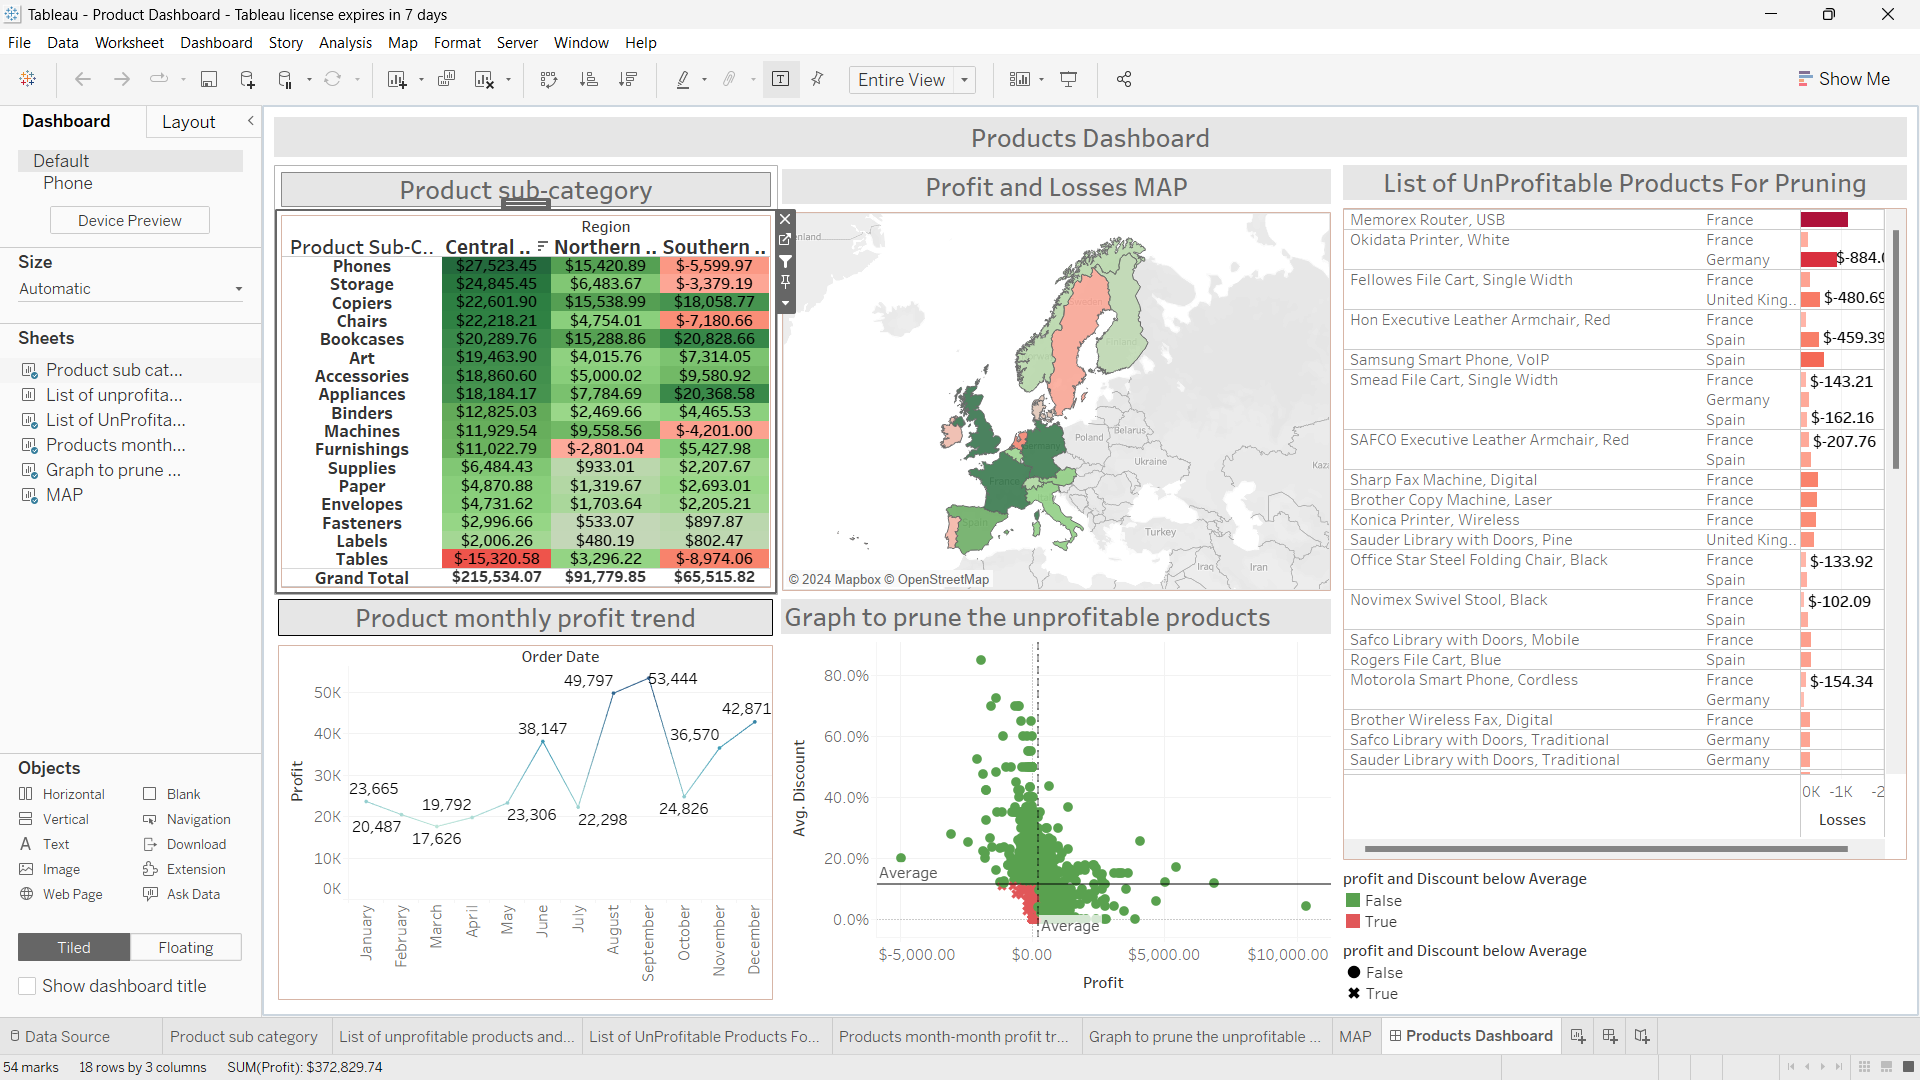

The page's visual inventory and layout, read from the dashboard file:
{"tool":"tableau","page":{"name":"Products Dashboard","canvas":[1000,1000],"units":"permille","ordinal":0},"visuals":[{"type":"text","box":[4.8,8.8,990.3,52.7]},{"type":"text","box":[650,61.5,345.2,47.2]},{"type":"text","box":[311.1,65.8,336.4,47.2]},{"type":"text","box":[9.1,69.1,300.3,47.2]},{"type":"worksheet","title":"List of UnProfitable Products For Pruning","mark":"Bar","rows":["Product Name","Country/Region"],"cols":["Profit"],"box":[650,108.7,345.2,724.5]},{"type":"worksheet","title":"MAP","mark":"Automatic","box":[311.1,113,336.4,425.2]},{"type":"worksheet","title":"Product sub category","mark":"Automatic","rows":["Sub-Category"],"cols":["Region"],"box":[9.1,116.3,300.3,418.5]},{"type":"text","box":[7.2,538.2,303.8,49.8]},{"type":"text","box":[311,538.2,336.5,47.2]},{"type":"worksheet","title":"Graph to prune the unprofitable products","mark":"Automatic","rows":["Discount"],"cols":["Profit"],"box":[311,585.5,336.5,401.4]},{"type":"worksheet","title":"Products month-month profit trend","mark":"Automatic","rows":["Profit"],"cols":["Order Date"],"box":[7.2,588.1,303.8,398.8]},{"type":"legend","title":"Graph to prune the unprofitable products","param":"[federated.1nu9wbl0ly4tzy1cx9fzt0t80pvc].[usr:Calculation_1455788629362044928:nk","box":[650,833.2,345.2,79]},{"type":"legend","title":"Graph to prune the unprofitable products","param":"[federated.1nu9wbl0ly4tzy1cx9fzt0t80pvc].[usr:Calculation_1455788629362044928:nk","box":[650,912.2,345.2,79]}]}

Visuals, with their boxes on the dashboard's canvas, which has no fixed pixel size, in thousandths of its width and height (x1, y1, x2, y2). These are canvas units, not pixel positions in the 1920x1080 screenshot, which may show the page scaled, cropped or inside an application window:
text: {"x1": 5, "y1": 9, "x2": 995, "y2": 62}
text: {"x1": 650, "y1": 62, "x2": 995, "y2": 109}
text: {"x1": 311, "y1": 66, "x2": 648, "y2": 113}
text: {"x1": 9, "y1": 69, "x2": 309, "y2": 116}
"List of UnProfitable Products For Pruning" worksheet (Bar marks): {"x1": 650, "y1": 109, "x2": 995, "y2": 833}
"MAP" worksheet: {"x1": 311, "y1": 113, "x2": 648, "y2": 538}
"Product sub category" worksheet: {"x1": 9, "y1": 116, "x2": 309, "y2": 535}
text: {"x1": 7, "y1": 538, "x2": 311, "y2": 588}
text: {"x1": 311, "y1": 538, "x2": 648, "y2": 585}
"Graph to prune the unprofitable products" worksheet: {"x1": 311, "y1": 586, "x2": 648, "y2": 987}
"Products month-month profit trend" worksheet: {"x1": 7, "y1": 588, "x2": 311, "y2": 987}
"Graph to prune the unprofitable products" legend: {"x1": 650, "y1": 833, "x2": 995, "y2": 912}
"Graph to prune the unprofitable products" legend: {"x1": 650, "y1": 912, "x2": 995, "y2": 991}
